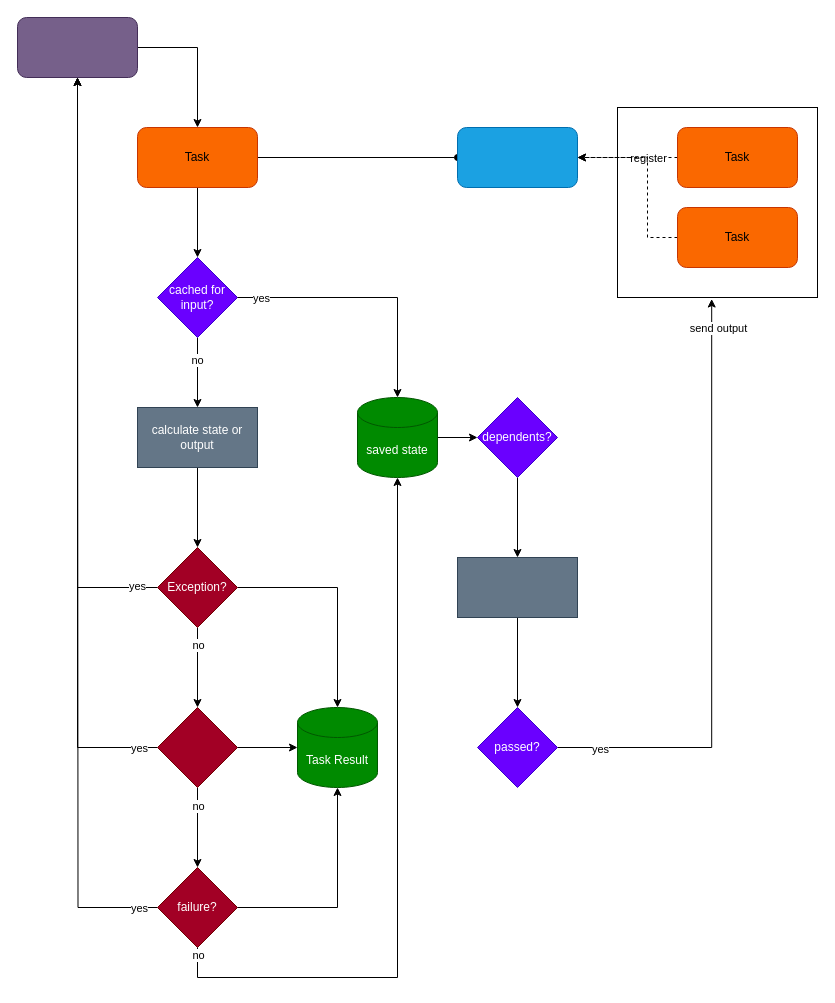
The diagram is 835 pixels wide and 1003 high, and some of its shapes have lost their labels. Here are the shapes that lost their labels. From the top down, the box of each, then its label:
(16, 16, 138, 78): Planner
(456, 126, 578, 188): Task Dependencies
(616, 106, 818, 298): Registered Dependent Tasks
(456, 556, 578, 618): call register handler
(156, 706, 238, 788): timeout?
